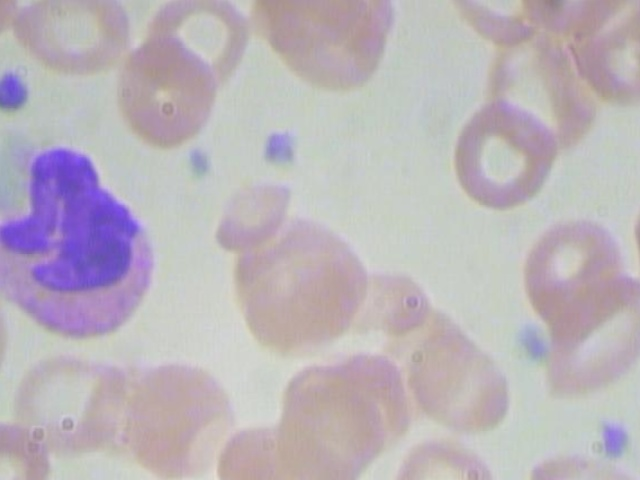Platelets: (248, 122, 301, 177), (502, 316, 549, 364), (590, 413, 636, 461), (0, 57, 32, 121)
RBC: (536, 266, 640, 409), (121, 358, 238, 480), (445, 97, 569, 209), (108, 37, 222, 154), (1, 0, 142, 79), (200, 179, 294, 250), (0, 415, 54, 480)
WBC: (0, 121, 169, 345)
